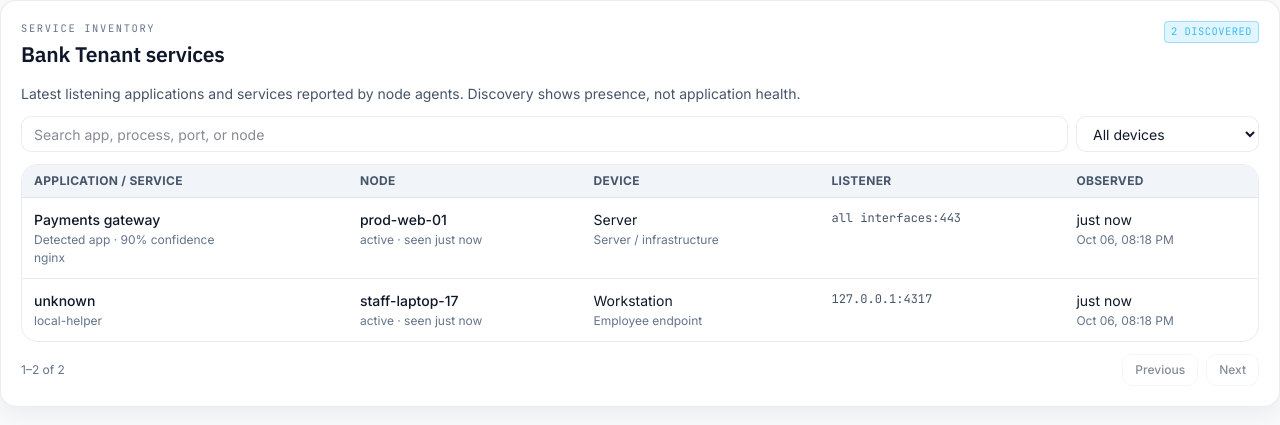
Test: ServiceInventory › requests endpoint-only inventory when the device filter changes
Expected: the text "Payments gateway" is shown, [34,211,160,228]
Select "Employee endpoints" in the dropdown named "Device scope" at (1168, 134), box [1076,116,1259,152]
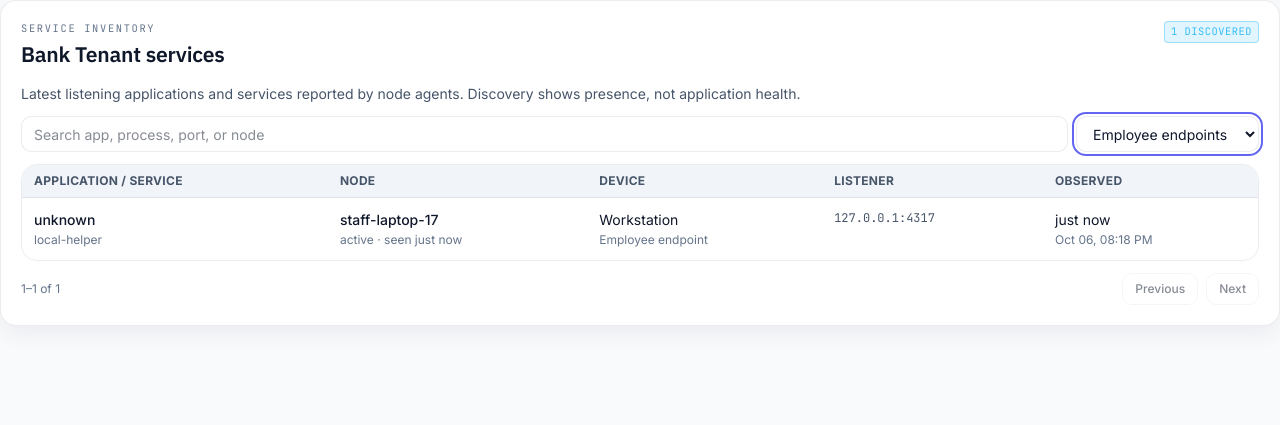
Expected: the link "staff-laptop-17" is shown, [340,211,439,228]
Now the text "Payments gateway" is gone
